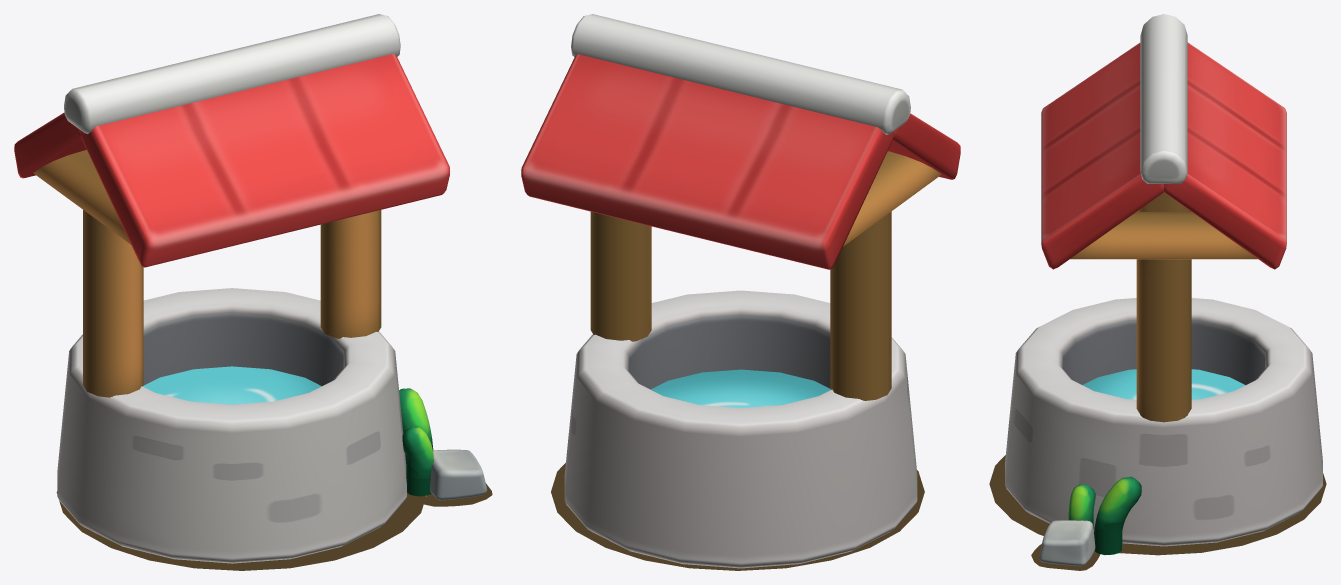
The model's file is Well.fbx.
The picture shows the model from 3 angles, left to right: view 1: azimuth 30°, elevation 25°; view 2: azimuth 150°, elevation 25°; view 3: azimuth 270°, elevation 25°; orthographic projection. The views are drawn at different scales.
Visible parts, largest first — view 1: Well_body, Well_SDW; view 2: Well_body, Well_SDW; view 3: Well_body, Well_SDW.
Part boxes in pixels (x1=…): Well_body: x1=14, y1=14, x2=487, y2=563; Well_SDW: x1=56, y1=483, x2=492, y2=570; Well_body: x1=521, y1=14, x2=960, y2=568; Well_SDW: x1=551, y1=463, x2=924, y2=570; Well_body: x1=1005, y1=14, x2=1322, y2=566; Well_SDW: x1=989, y1=455, x2=1326, y2=570.
Bounding box in the file's own units: 169 × 197 × 150.
2 materials, 1 textured.
